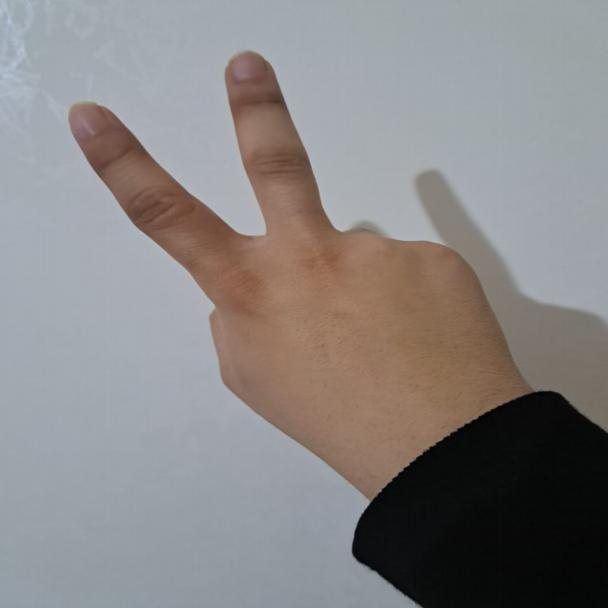two: (67, 47, 503, 432)
